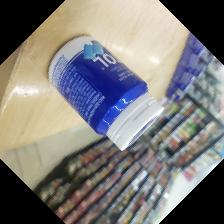Xylitol_blue: (47, 34, 164, 148)
